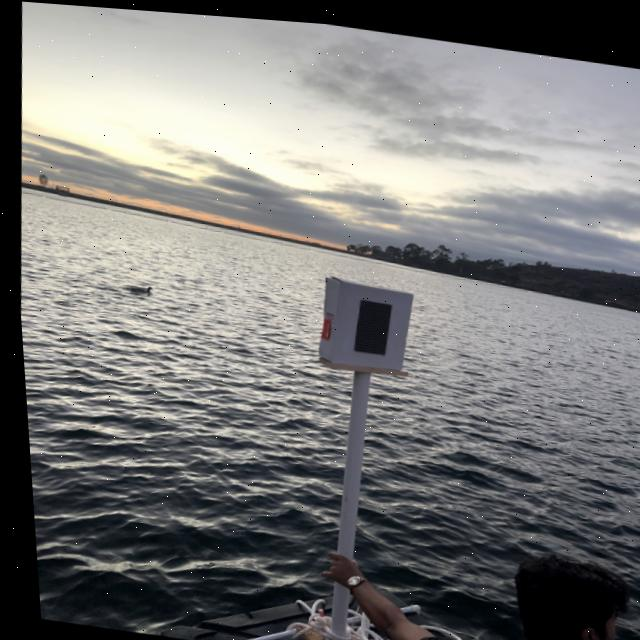led: (328, 274, 401, 370)
